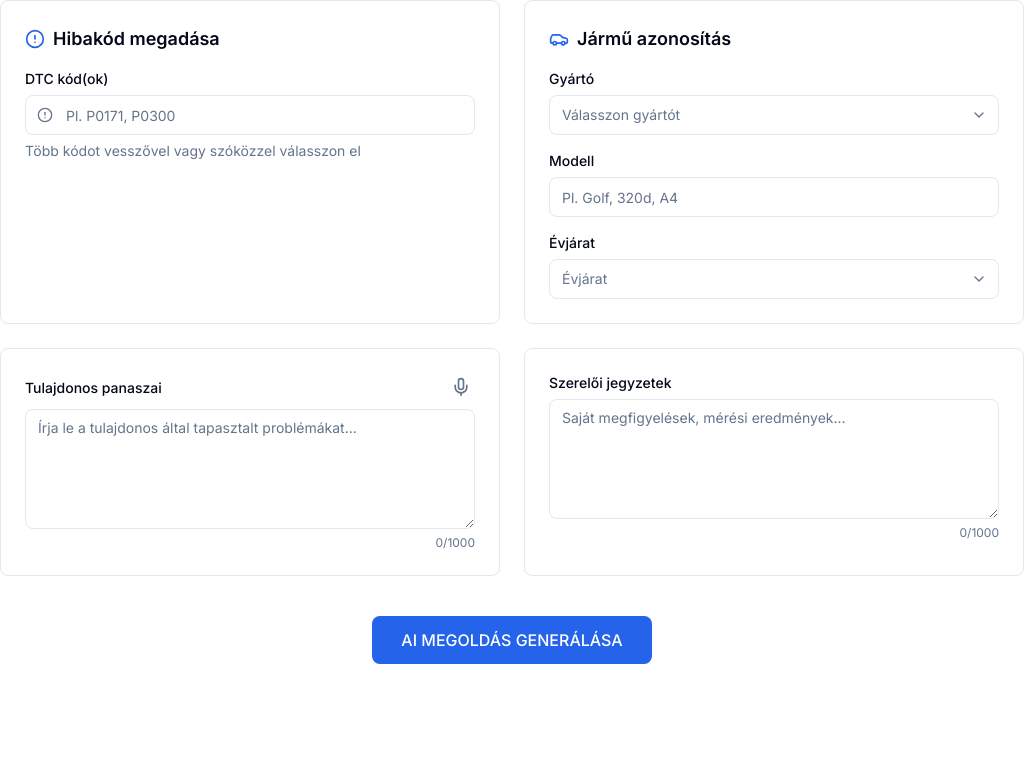
Test: DiagnosisForm DTC validation › rejects PEACE, which is not a DTC code
Step 1. Type "PEACE" into the field labelled "DTC kód(ok)" → [250, 115], box [25,95,475,135]
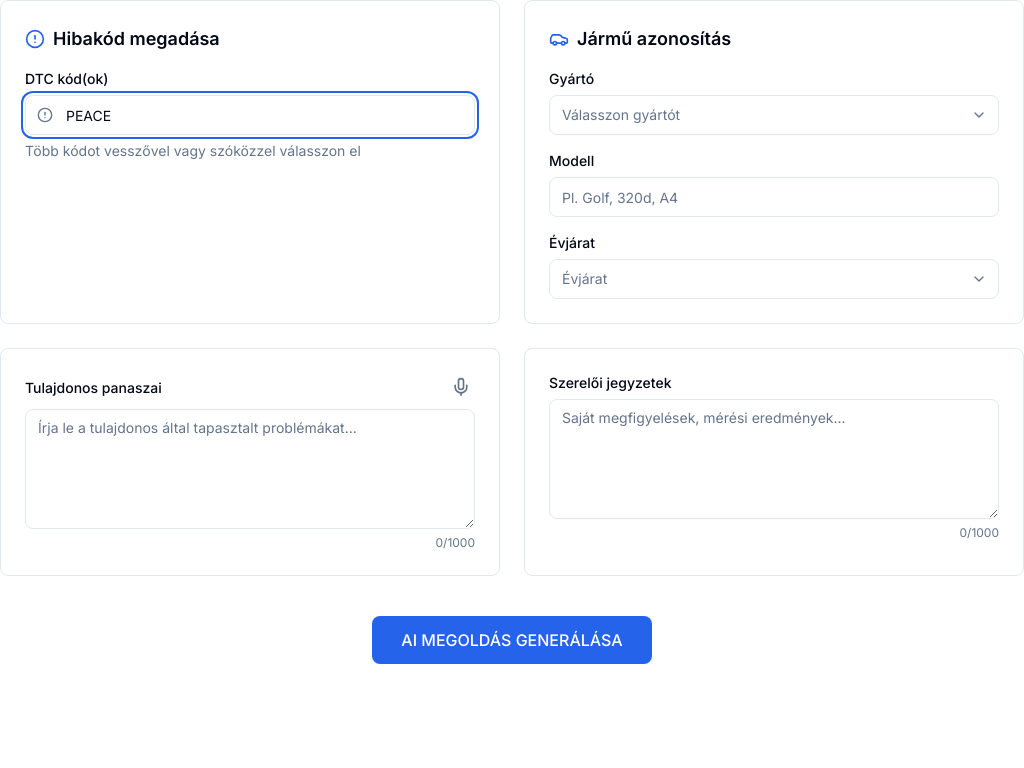
Step 2. Select "Volkswagen" in the dropdown labelled "Gyártó" → [774, 115], box [549,95,999,135]
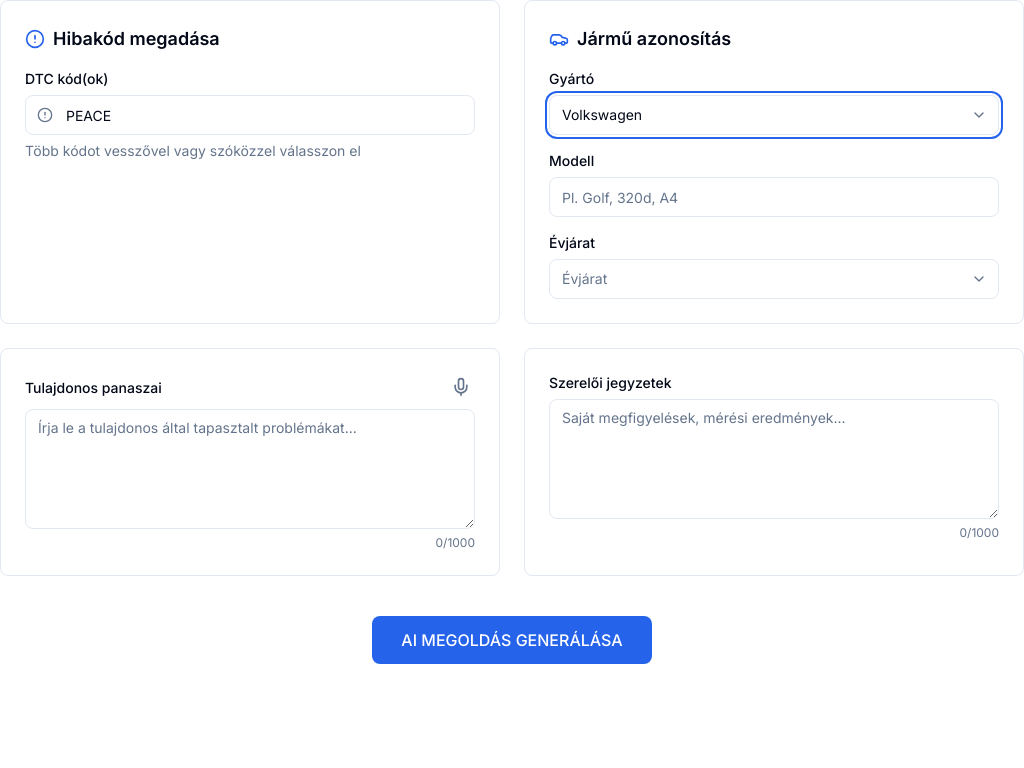
Step 3. Click the button "AI MEGOLDÁS GENERÁLÁSA" → [512, 640], box [372,616,652,664]
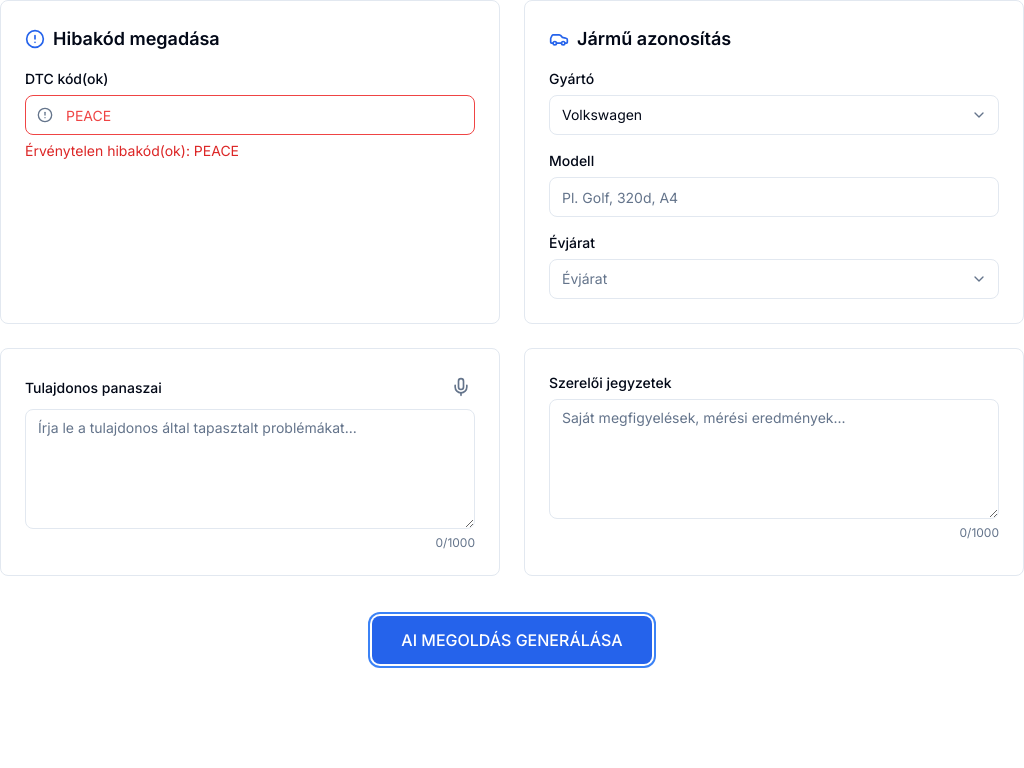
Expected: the text "Érvénytelen hibakód(ok): PEACE" is shown, [25,142,239,159]
